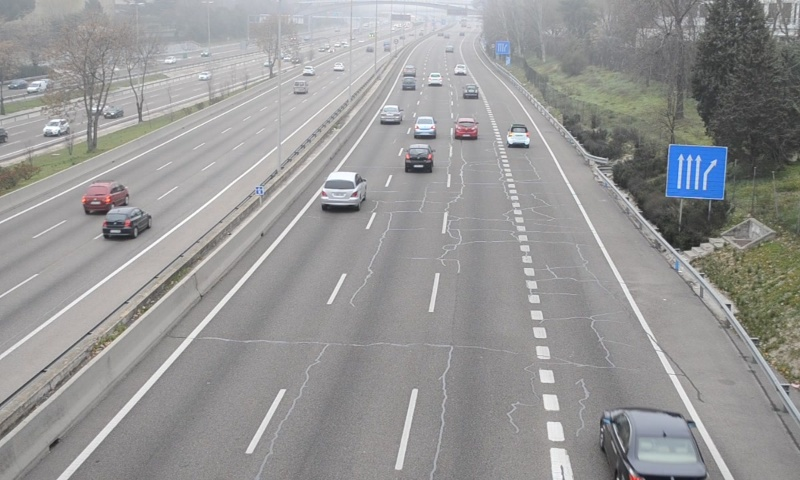car: (602, 406, 712, 480), (321, 170, 367, 208), (404, 144, 435, 173), (507, 123, 530, 148), (414, 116, 437, 139), (455, 118, 479, 140), (379, 105, 403, 126), (462, 84, 480, 100), (426, 72, 443, 86), (400, 77, 417, 91)
